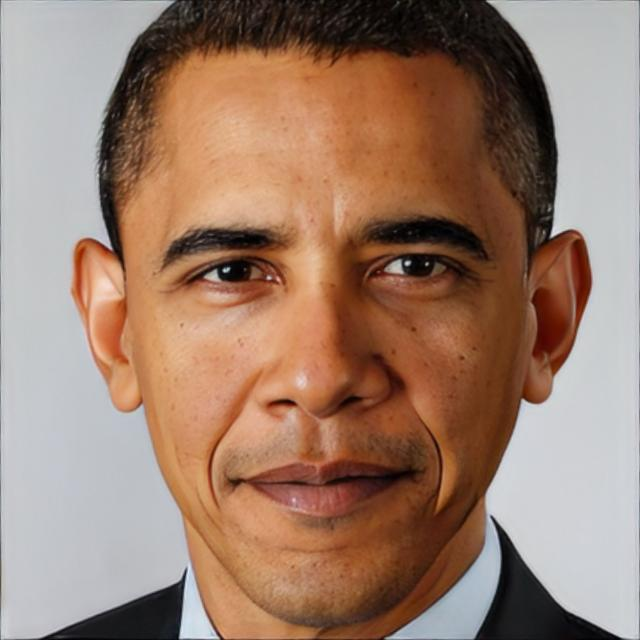neutral: (130, 46, 532, 630)
